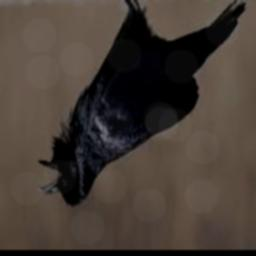Crow: (37, 0, 245, 208)
